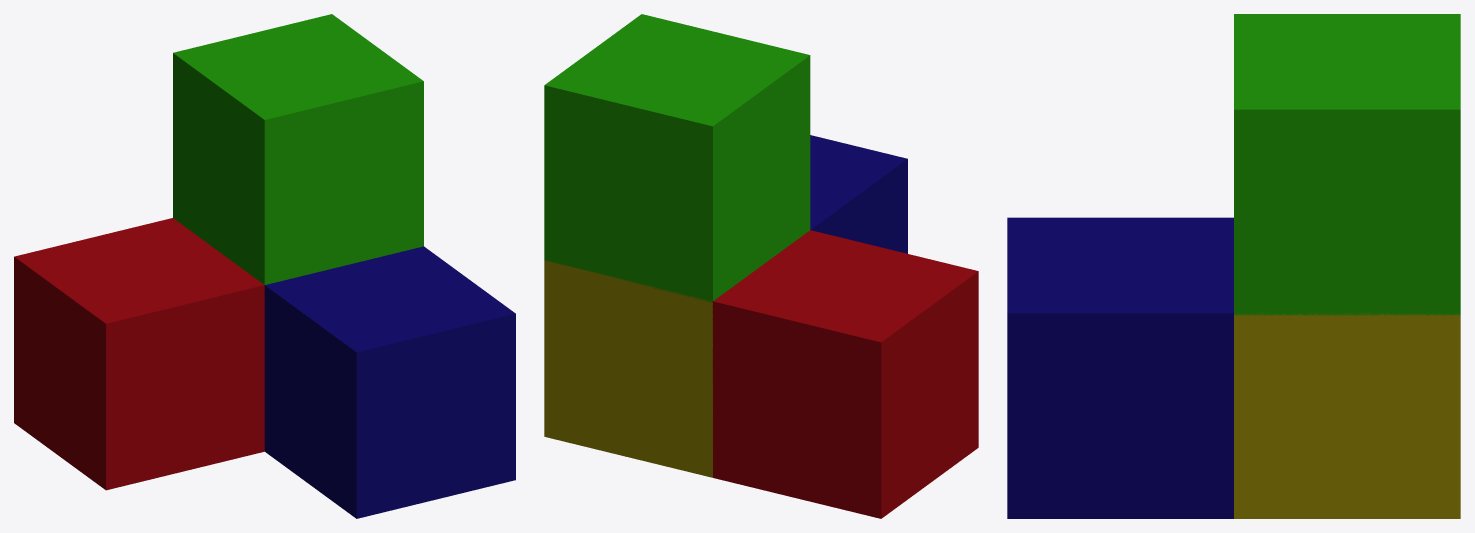
Rendered from cubos.glb.
3 renders of one model, left to right at view 1: azimuth 30°, elevation 25°; view 2: azimuth 150°, elevation 25°; view 3: azimuth 270°, elevation 25°, orthographic. The views are drawn at different scales.
Parts seen in each view (by area): view 1: CuboAzul, CuboRojo, CuboVerde; view 2: CuboRojo, CuboVerde, CuboAmarillo, CuboAzul; view 3: CuboAzul, CuboVerde, CuboAmarillo.
Boxes of the visible parts, x1=… form: CuboAzul: x1=264, y1=246, x2=515, y2=518; CuboRojo: x1=14, y1=218, x2=264, y2=490; CuboVerde: x1=173, y1=14, x2=423, y2=284; CuboRojo: x1=712, y1=230, x2=978, y2=518; CuboVerde: x1=544, y1=14, x2=810, y2=302; CuboAmarillo: x1=544, y1=260, x2=712, y2=477; CuboAzul: x1=810, y1=135, x2=907, y2=253; CuboAzul: x1=1007, y1=217, x2=1233, y2=518; CuboVerde: x1=1234, y1=14, x2=1460, y2=315; CuboAmarillo: x1=1234, y1=313, x2=1460, y2=518.
Size of the model in its own units: 3.99 by 3.98 by 4.
